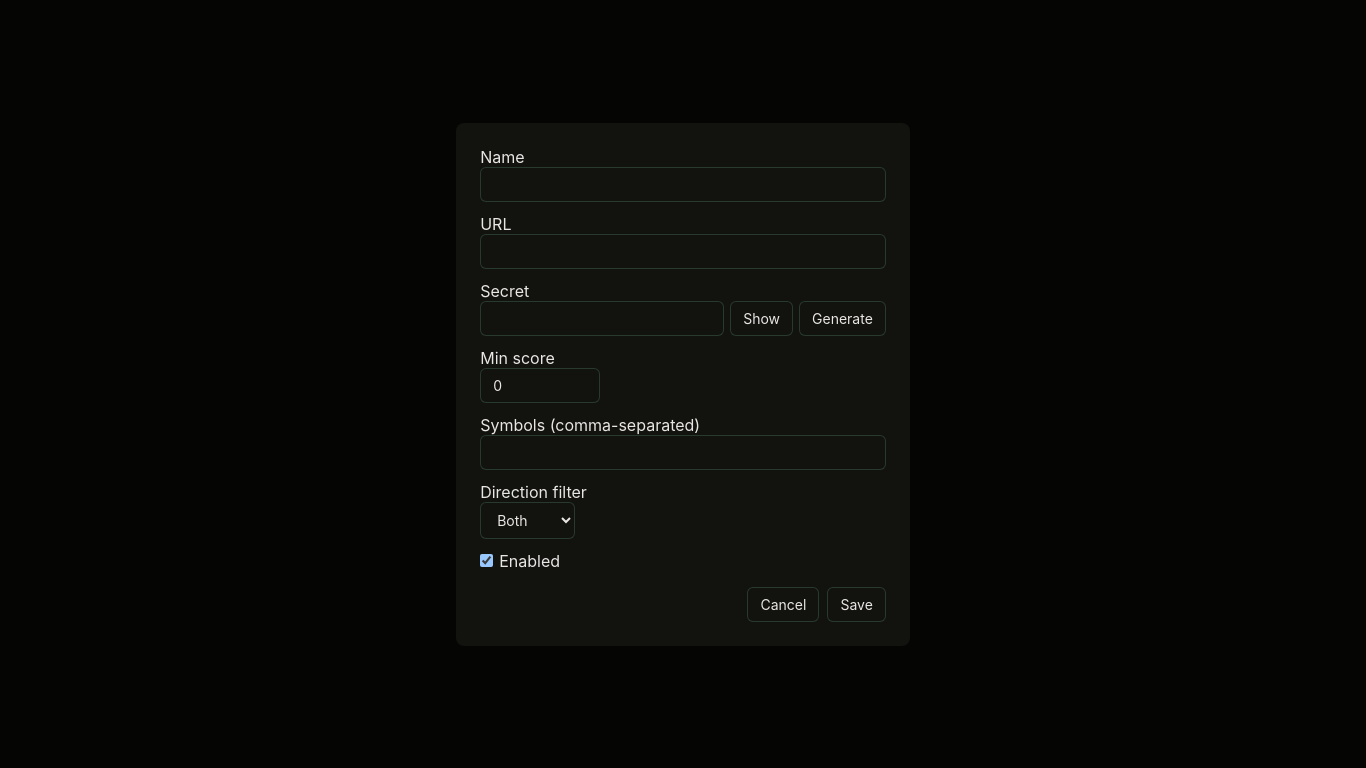
Scenario: PluginEditModal › requires name and secret in create mode
The width and height of the screenshot is (1366, 768).
Click the button "Save" at (857, 604), box x1=827 y1=586 x2=886 y2=622
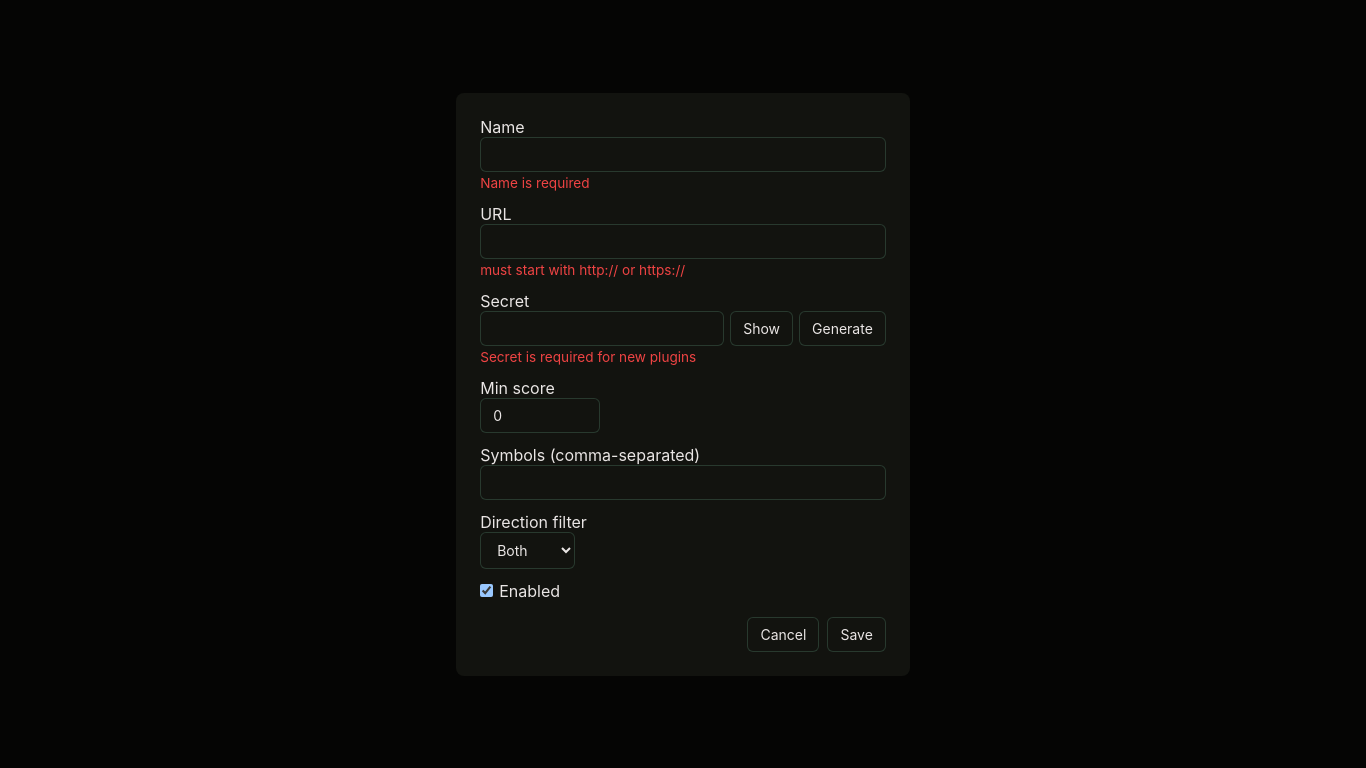
Check: the text "Name is required" is shown, box x1=480 y1=174 x2=590 y2=190
